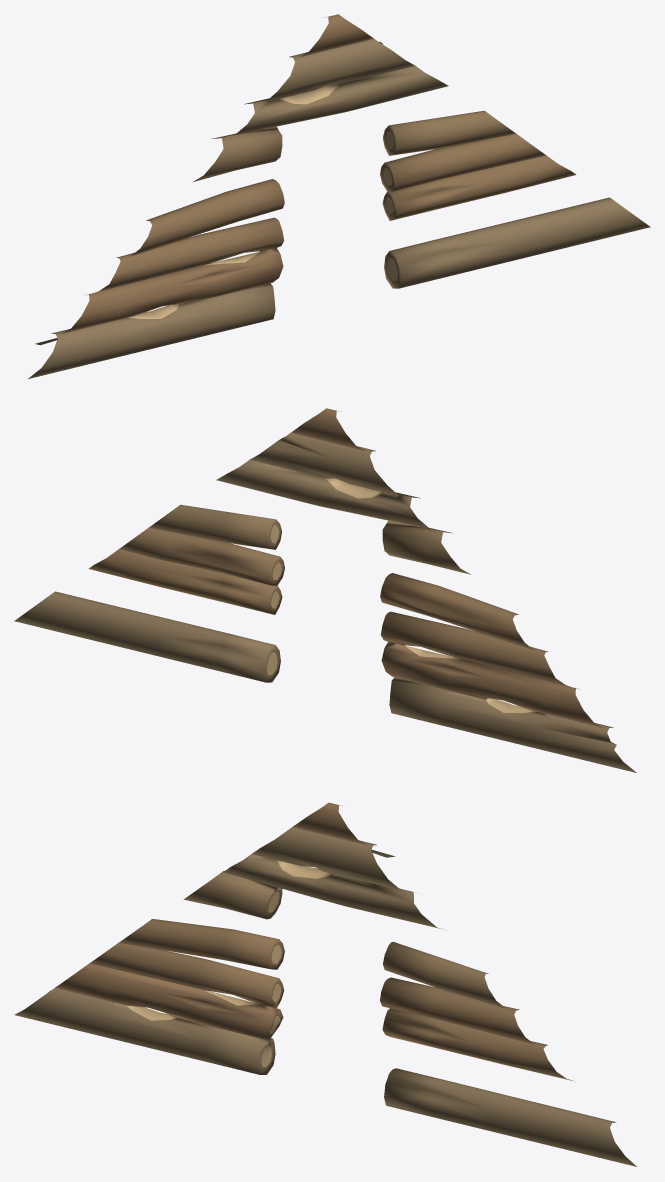
Rendered from rpgpp_av_roof_end_01_9x4_wall_door_03a.gltf.
3 views of the same model, one above another, from view 1: azimuth 30°, elevation 25°; view 2: azimuth 150°, elevation 25°; view 3: azimuth 330°, elevation 25° (orthographic).
Visible parts, largest first — view 1: rpgpp_av_roof_end_01_9x4_wall_door_03a; view 2: rpgpp_av_roof_end_01_9x4_wall_door_03a; view 3: rpgpp_av_roof_end_01_9x4_wall_door_03a.
Boxes of the visible parts, x1,y1,x2,y2 form: rpgpp_av_roof_end_01_9x4_wall_door_03a: (28,14,650,378); rpgpp_av_roof_end_01_9x4_wall_door_03a: (14,408,636,772); rpgpp_av_roof_end_01_9x4_wall_door_03a: (14,802,636,1166).
Bounding box in the file's own units: 0.0968 × 0.0423 × 0.00463.
1 material, 1 textured.
